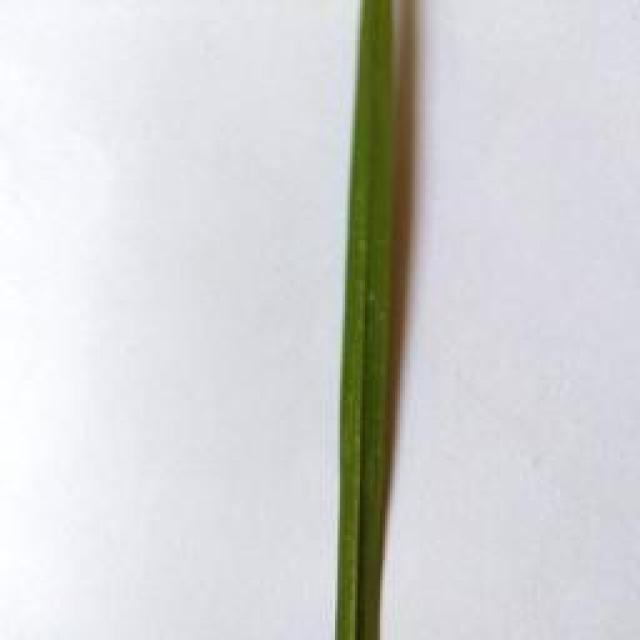Bacterial_Blight: (332, 0, 400, 640)
